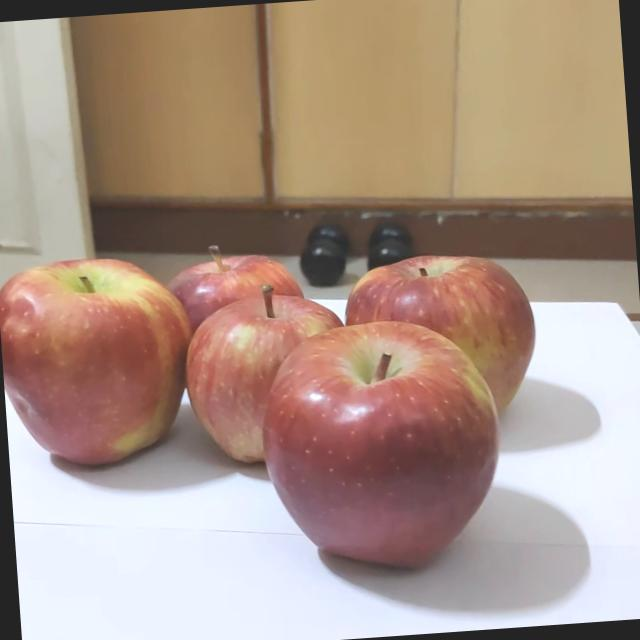apple: (204, 316, 453, 578), (353, 245, 561, 445), (26, 242, 224, 448), (185, 273, 362, 451), (200, 236, 352, 382)
